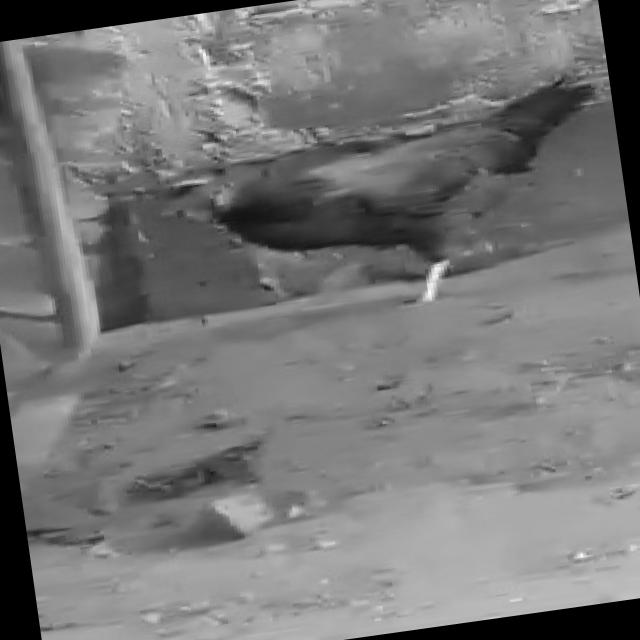stand bath: (136, 63, 640, 360)
